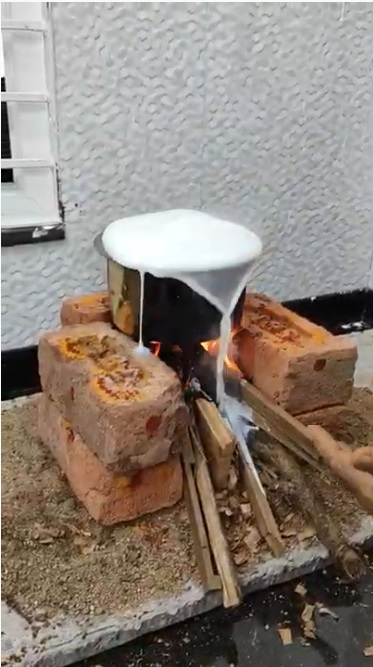Boiled: (88, 204, 277, 441)
